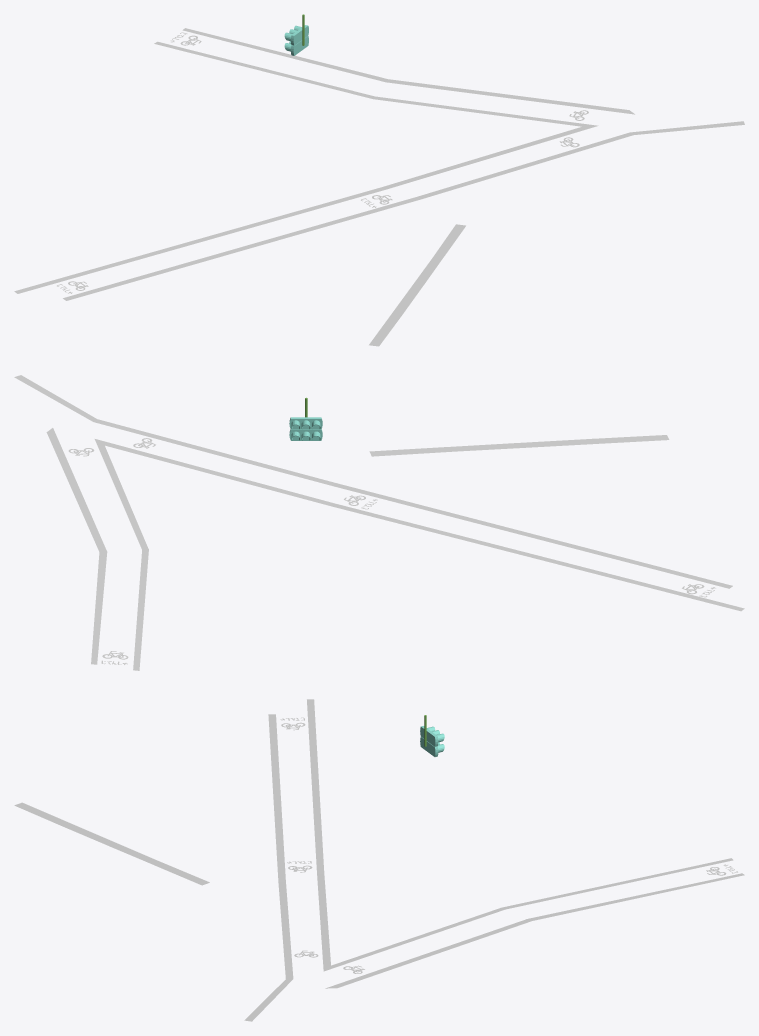
Rendered from data94.glb.
3 views of the same model, one above another, from view 1: azimuth 30°, elevation 25°; view 2: azimuth 150°, elevation 25°; view 3: azimuth 270°, elevation 25° (orthographic). The views are drawn at different scales.
Bounding box in the file's own units: 33.08 × 6.9 × 29.64.
